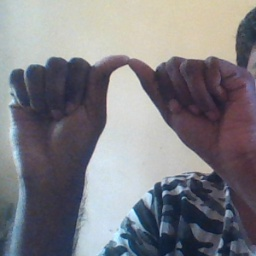A: (64, 44, 195, 148)
